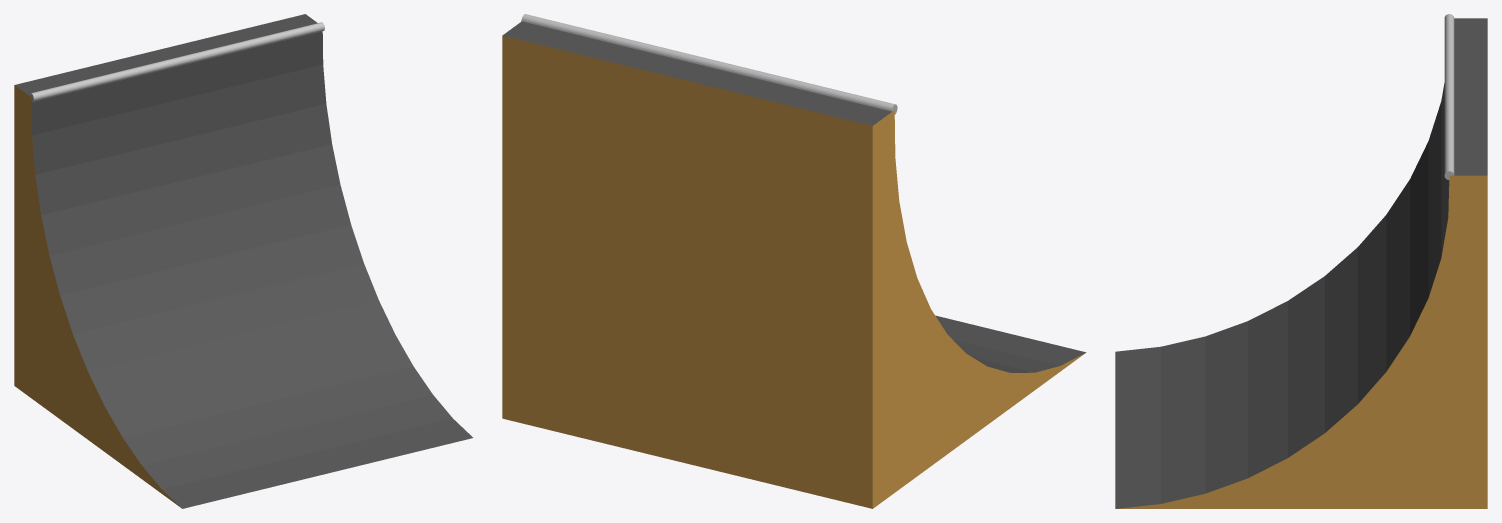
Rendered from Skate_Quarter_Pipe_w_Back_Rail_01.FBX.
3 renders of one model, left to right at view 1: azimuth 30°, elevation 25°; view 2: azimuth 150°, elevation 25°; view 3: azimuth 270°, elevation 25°, orthographic. The views are drawn at different scales.
Visible parts, largest first — view 1: Skate_Quarter_Pipe_w_Back_Rail_01; view 2: Skate_Quarter_Pipe_w_Back_Rail_01; view 3: Skate_Quarter_Pipe_w_Back_Rail_01.
Boxes of the visible parts, x1,y1,x2,y2 form: Skate_Quarter_Pipe_w_Back_Rail_01: [14, 14, 472, 508]; Skate_Quarter_Pipe_w_Back_Rail_01: [502, 14, 1086, 508]; Skate_Quarter_Pipe_w_Back_Rail_01: [1115, 14, 1487, 508].
Bounding box in the file's own units: 3000 × 3003 × 3000.
